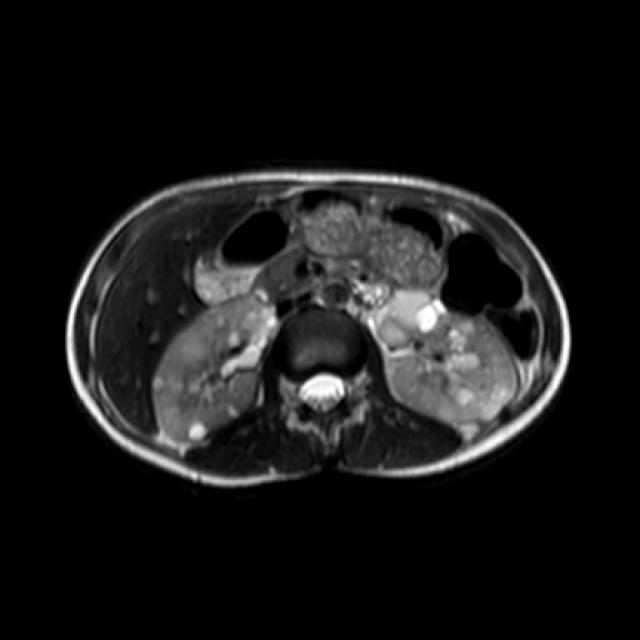sag: (154, 292, 274, 438)
sol: (373, 289, 517, 423)
